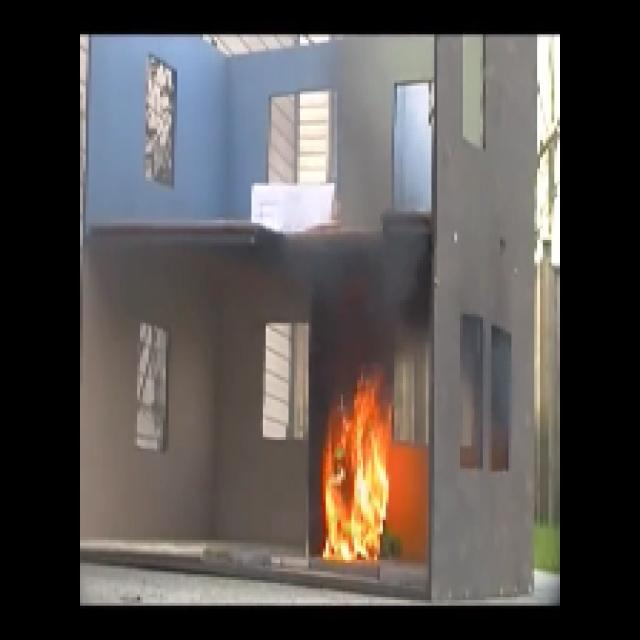fire: (315, 377, 396, 556)
smoke: (321, 240, 416, 345)
